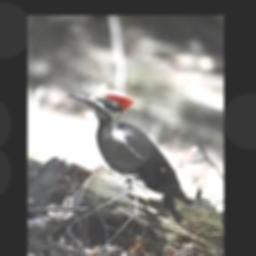Woodpecker: (69, 91, 193, 220)
